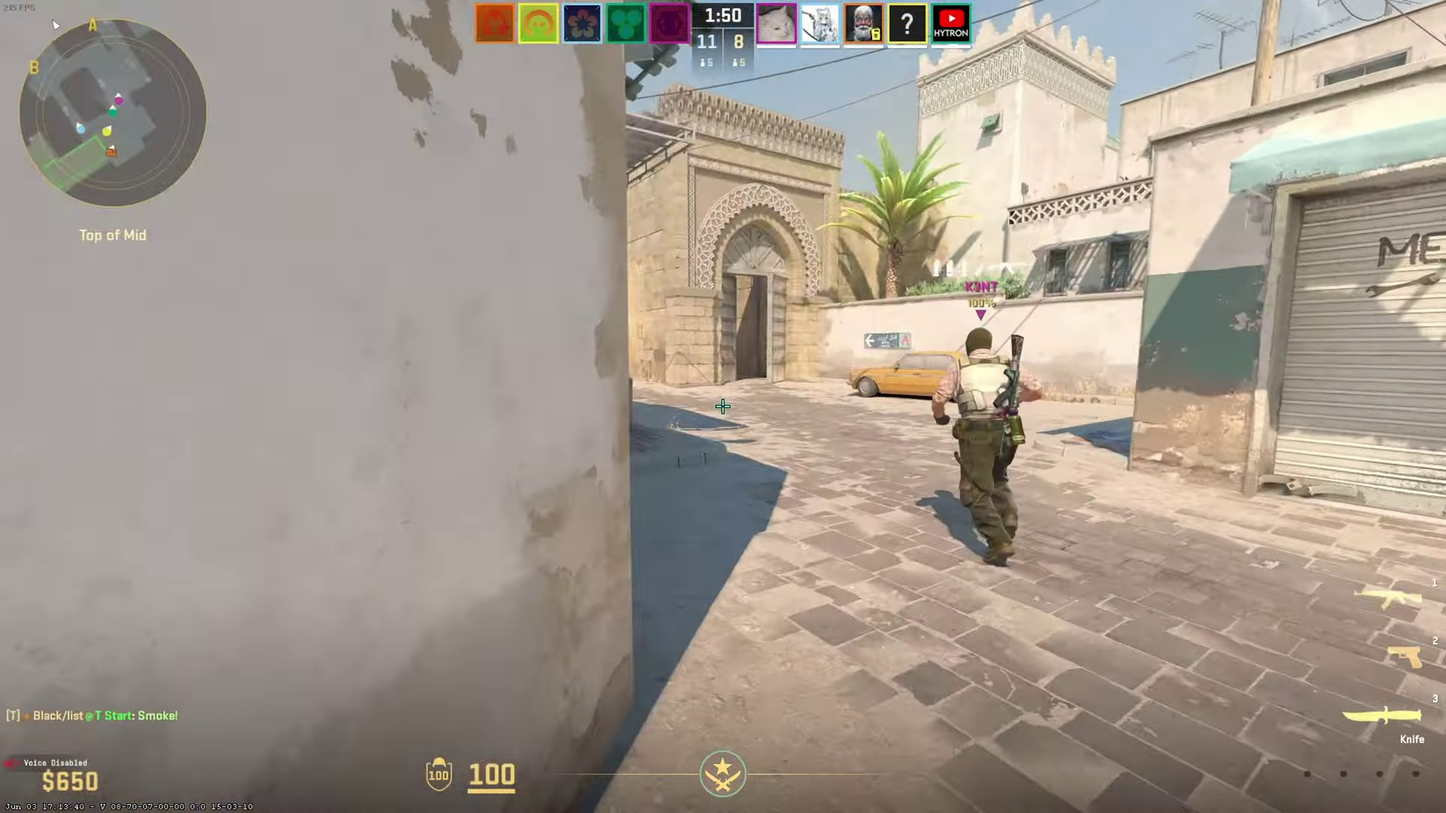Terrorist: (950, 327, 1026, 565)
